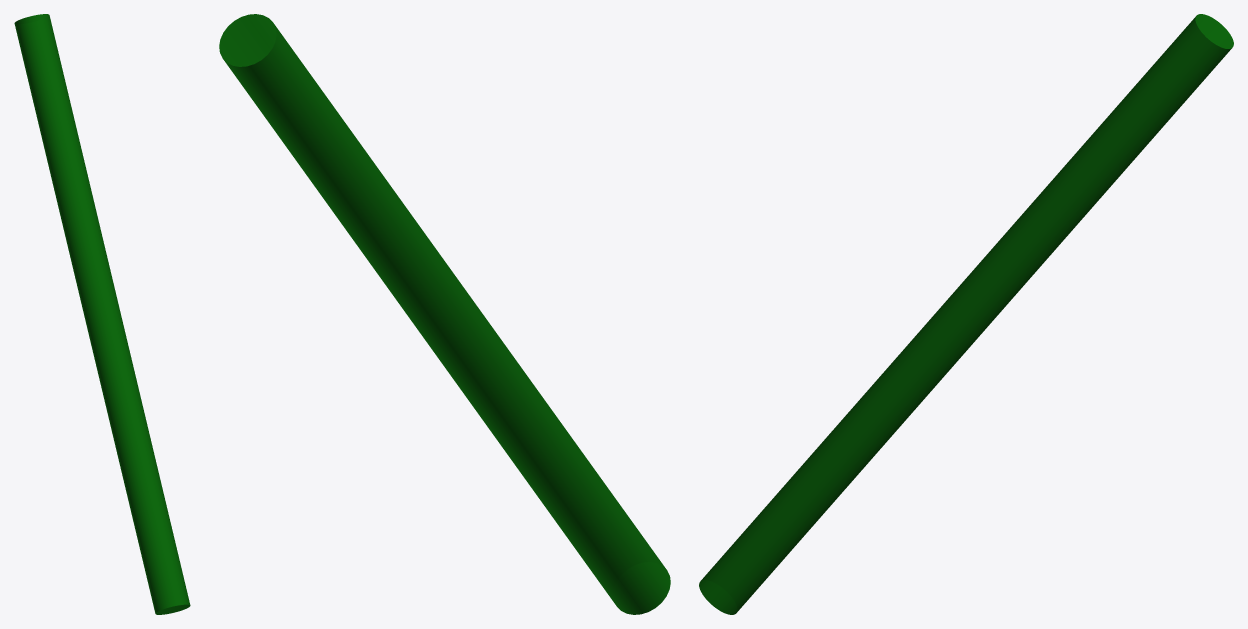
Rendered from Event_134295681_jet_3.fbx.
3 views of the same model, side by side, from view 1: azimuth 30°, elevation 25°; view 2: azimuth 150°, elevation 25°; view 3: azimuth 270°, elevation 25° (orthographic). The views are drawn at different scales.
Visible parts, largest first — view 1: Model; view 2: Model; view 3: Model.
Boxes of the visible parts, x1=… form: Model: x1=14, y1=14, x2=190, y2=614; Model: x1=219, y1=14, x2=670, y2=614; Model: x1=699, y1=14, x2=1233, y2=614.
Bounding box in the file's own units: 0.0963 × 0.5664 × 0.4418.
